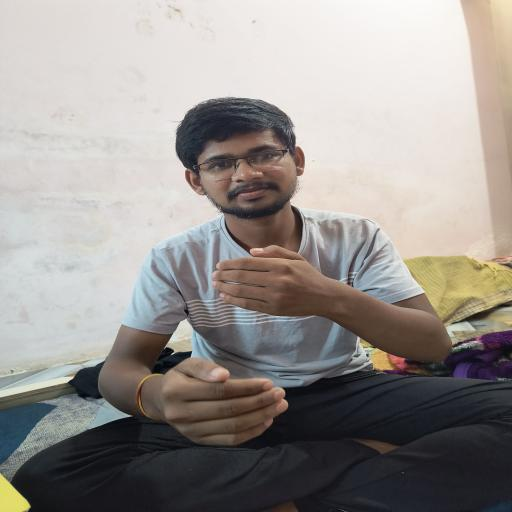Good: (139, 230, 378, 455)
